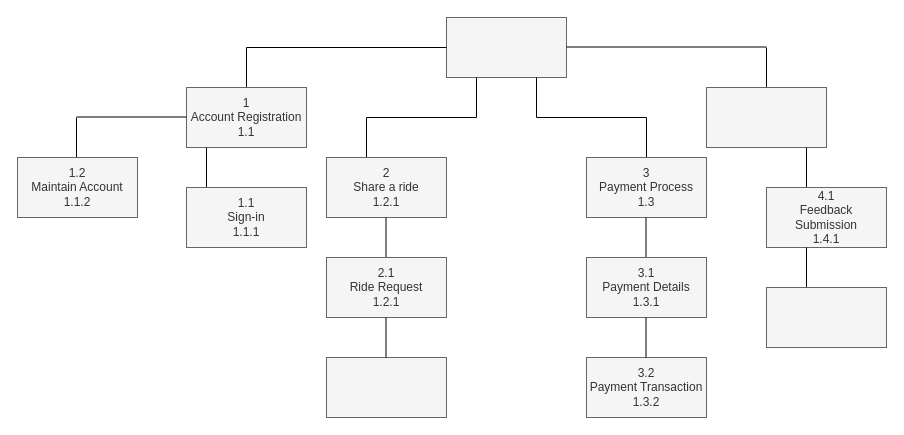
Some shapes in this 904 by 435 pixel diagram are drawn without their labels. The box of each missing label's shape, as (x1, y1, x2, y2) in pixels:
0 Main Menu 1: (446, 16, 566, 78)
2.2 Ride Cancellation Request 1.2.2: (326, 356, 446, 418)
4 Manage Feedback: (706, 86, 826, 148)
4.2 Report Outcome 1.4.2: (766, 286, 886, 348)
